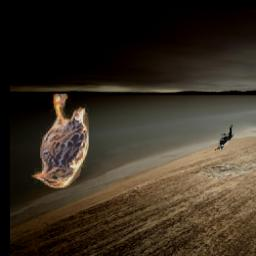Sparrow: (32, 95, 90, 189)
Woodpecker: (214, 125, 234, 151)
